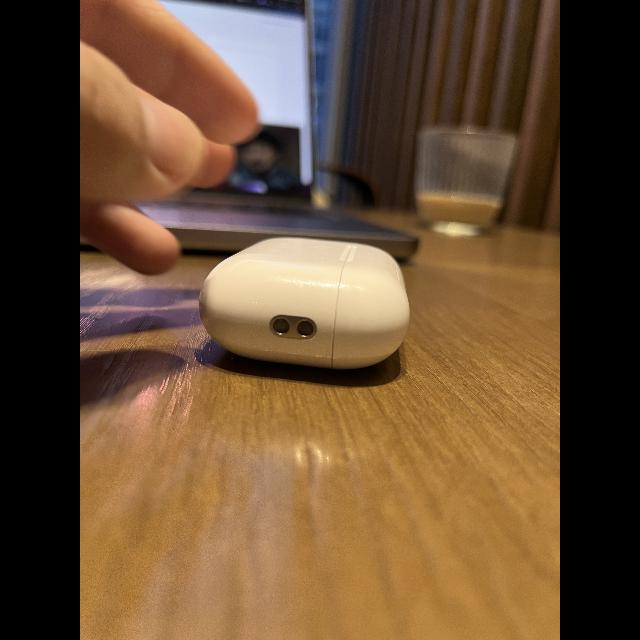AirPods Pro: (183, 224, 423, 390)
